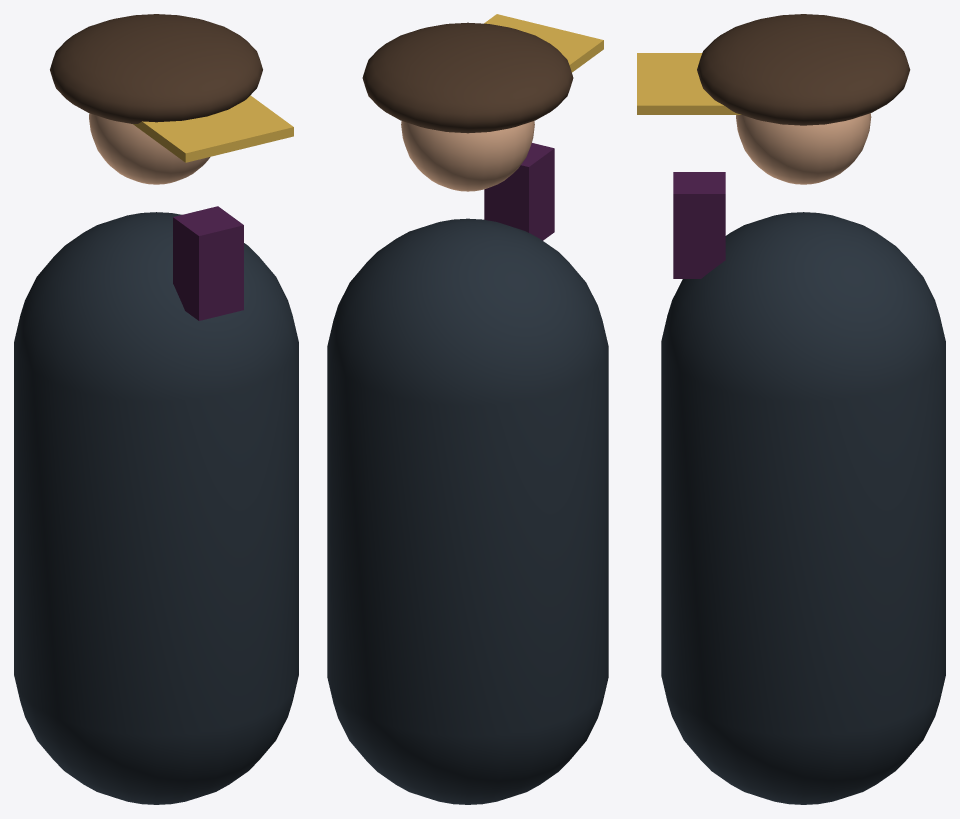
File: SM_Npc_ArtDealer.fbx
3 renders of one model, left to right at view 1: azimuth 30°, elevation 25°; view 2: azimuth 150°, elevation 25°; view 3: azimuth 270°, elevation 25°, orthographic.
Visible parts, largest first — view 1: Coat.001, Cap, Cravat, Cap_Visor, Head.001; view 2: Coat.001, Cap, Head.001, Cravat, Cap_Visor; view 3: Coat.001, Cap, Head.001, Cravat, Cap_Visor.
Part boxes in pixels (x1,y1,x2,y2): Coat.001: [14, 212, 298, 804]; Cap: [50, 14, 262, 123]; Cravat: [173, 206, 243, 320]; Cap_Visor: [133, 95, 293, 162]; Head.001: [89, 113, 210, 184]; Coat.001: [327, 218, 608, 804]; Cap: [362, 22, 573, 133]; Head.001: [401, 121, 534, 191]; Cravat: [484, 143, 554, 240]; Cap_Visor: [484, 14, 603, 72]; Coat.001: [661, 212, 945, 804]; Cap: [697, 14, 910, 125]; Head.001: [736, 113, 871, 184]; Cravat: [673, 172, 725, 278]; Cap_Visor: [637, 53, 741, 114].
Size of the model in its own units: 0.547 by 1.6 by 0.5935.
